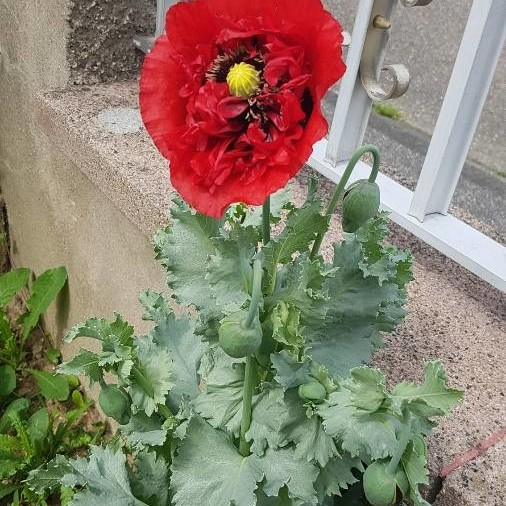obstacle: (138, 49, 447, 488)
